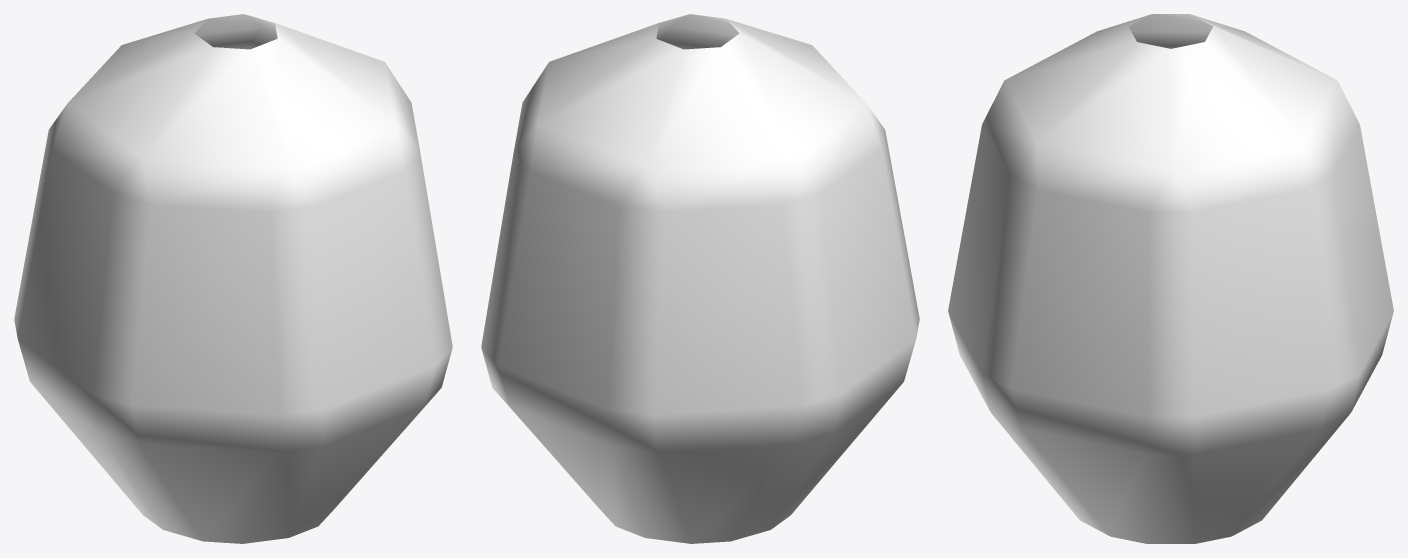
File: jar_glow.glb
3 renders of one model, left to right at view 1: azimuth 30°, elevation 25°; view 2: azimuth 150°, elevation 25°; view 3: azimuth 270°, elevation 25°, orthographic.
Parts seen in each view (by area): view 1: JarGlow; view 2: JarGlow; view 3: JarGlow.
Part boxes in pixels (x1=…): JarGlow: x1=14, y1=14, x2=452, y2=543; JarGlow: x1=481, y1=14, x2=919, y2=543; JarGlow: x1=948, y1=14, x2=1393, y2=543.
Bounding box in the file's own units: 0.2001 × 0.24 × 0.2053.
1 material, 1 textured.
